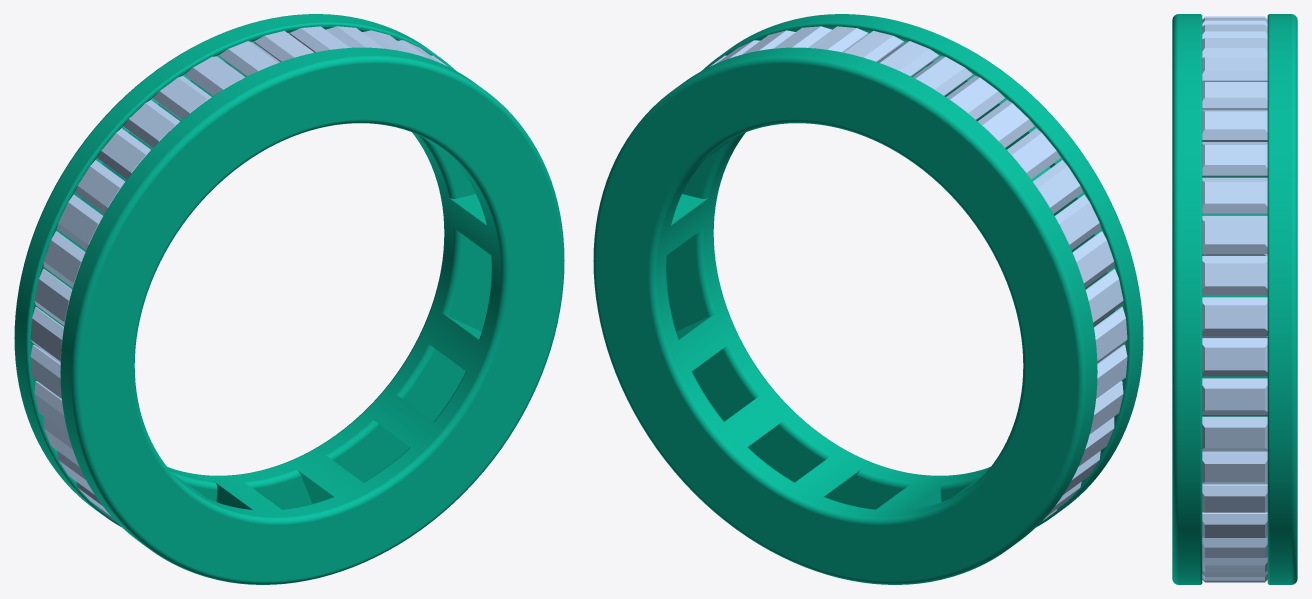
The picture shows the model from 3 angles, left to right: view 1: azimuth 30°, elevation 25°; view 2: azimuth 150°, elevation 25°; view 3: azimuth 270°, elevation 25°; orthographic projection.
Visible parts, largest first — view 1: VR-59 (2)(front).3dm, Diamond_Baguette Straight (×16); view 2: VR-59 (2)(front).3dm, Diamond_Baguette Straight (×16); view 3: Diamond_Baguette Straight (×21), VR-59 (2)(front).3dm.
Part boxes in pixels (x1,y1,x2,y2): VR-59 (2)(front).3dm: (14, 14, 564, 584); Diamond_Baguette Straight (×16): (30, 26, 383, 466); VR-59 (2)(front).3dm: (593, 14, 1143, 584); Diamond_Baguette Straight (×16): (774, 26, 1127, 466); Diamond_Baguette Straight (×21): (1202, 17, 1267, 582); VR-59 (2)(front).3dm: (1172, 14, 1297, 584).
Bounding box in the file's own units: 2.8 × 2.8 × 0.6129.
